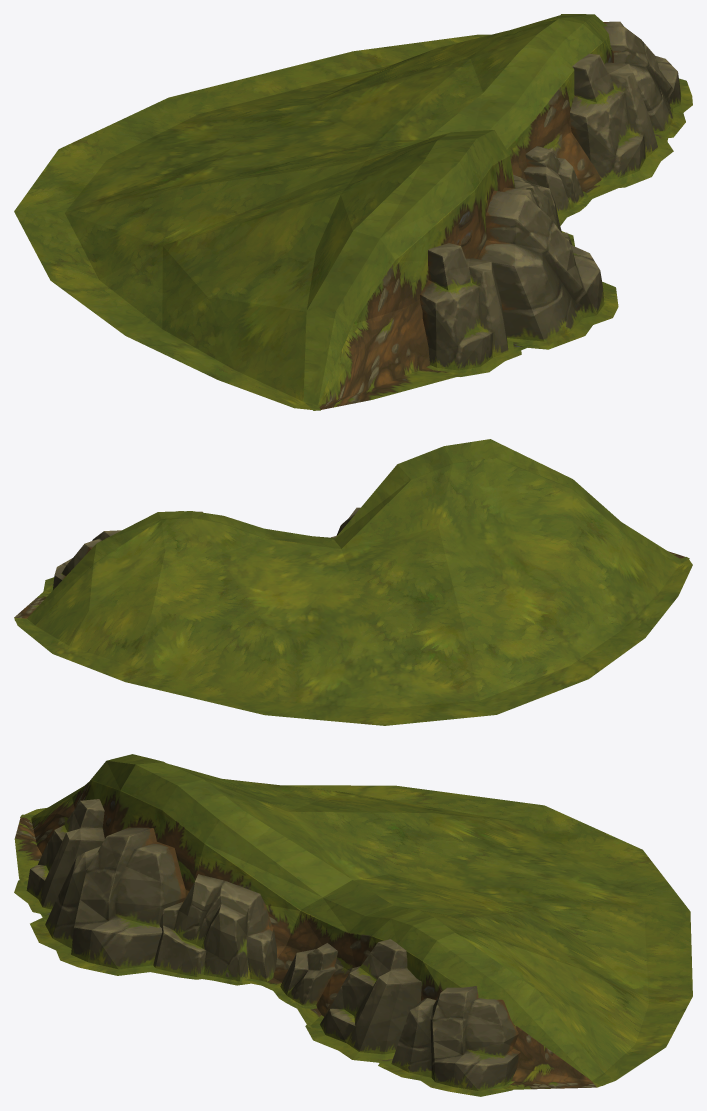
The model's file is berm_wedge_1.fbx.
3 views of the same model, one above another, from view 1: azimuth 30°, elevation 25°; view 2: azimuth 150°, elevation 25°; view 3: azimuth 270°, elevation 25° (orthographic). The views are drawn at different scales.
Parts seen in each view (by area): view 1: obj3.006; view 2: obj3.006; view 3: obj3.006.
Boxes of the visible parts, <box> form: obj3.006: <box>14,14,692,410</box>; obj3.006: <box>14,439,692,725</box>; obj3.006: <box>14,754,692,1096</box>.
Bounding box in the file's own units: 17.73 × 3.85 × 16.34.
